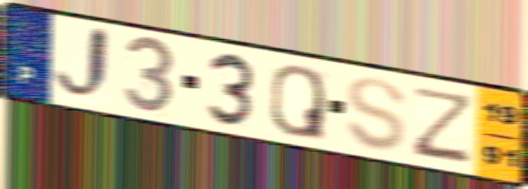3: (123, 33, 178, 118), (204, 51, 257, 128)
J: (51, 22, 115, 105)
Q: (268, 63, 328, 144)
S: (343, 75, 409, 154)
Z: (409, 84, 477, 165)
